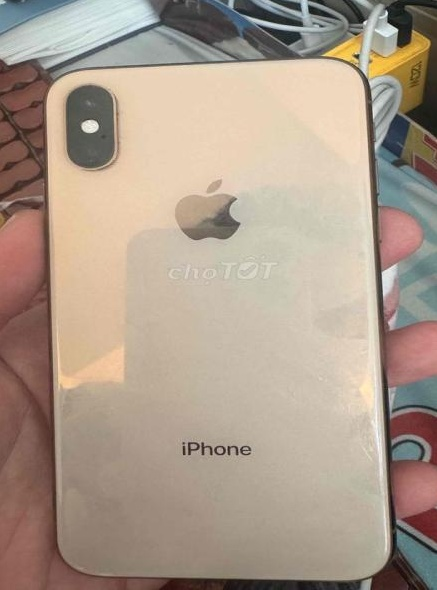scratch: (107, 92, 130, 158), (349, 428, 377, 463), (67, 556, 116, 576), (315, 368, 332, 391), (79, 84, 107, 89)
